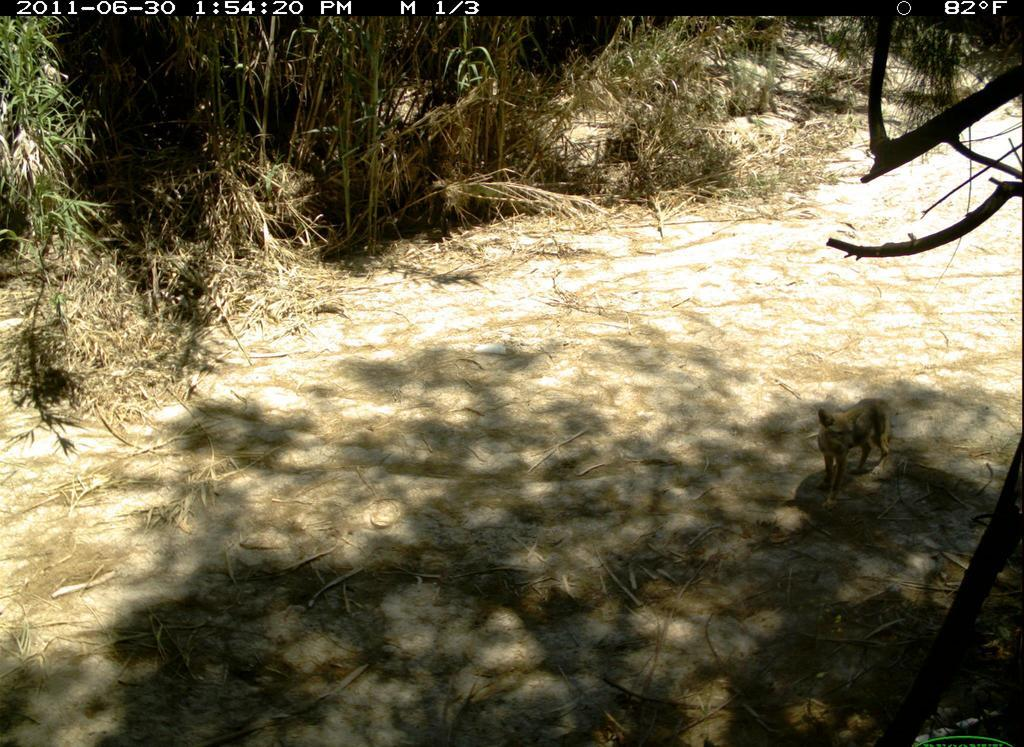coyote: (806, 389, 908, 526)
